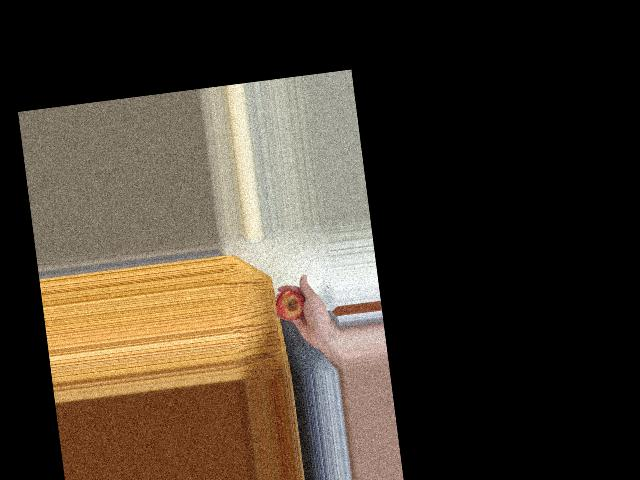apple: (274, 285, 309, 328)
